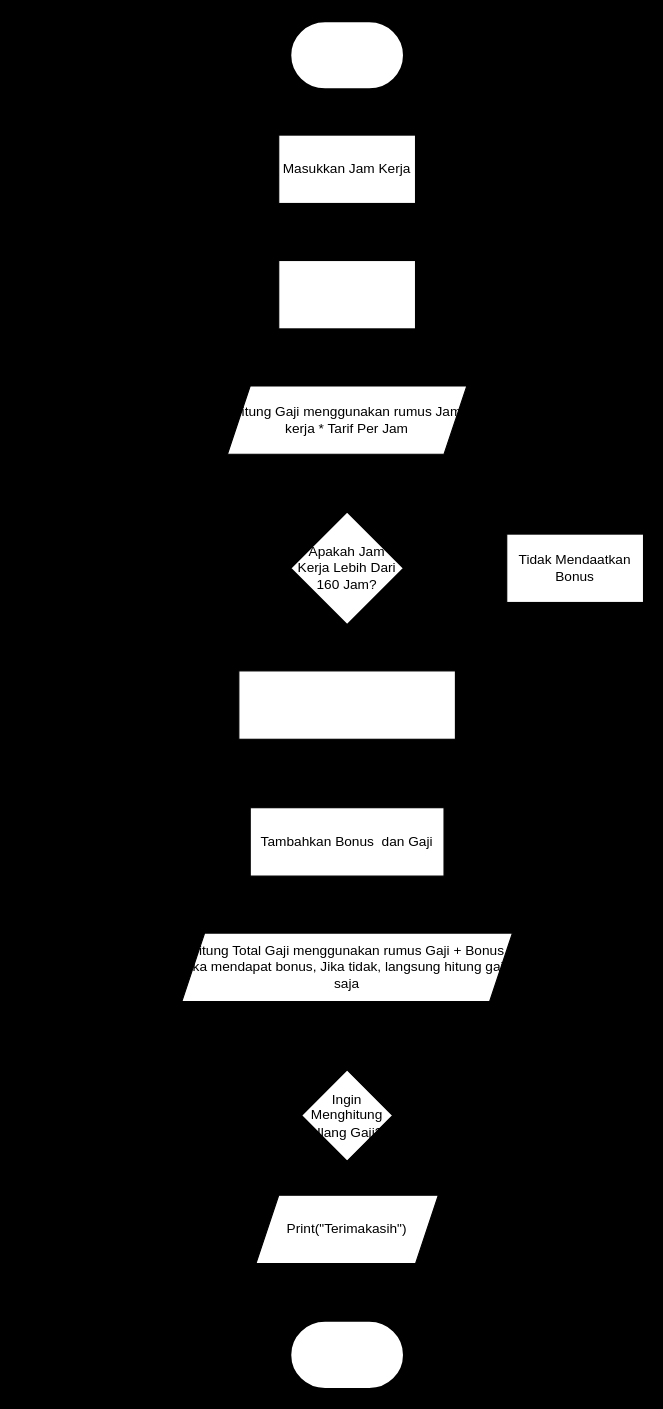
Image size: 663x1409. Some labels were removed from this diagram. The shapes that lost their labels are listed below. From the top down, each one's centre as x and y in pixels, then its label:
At point 346,54: "Mulai".
At point 347,294: "Masukkan Tarif Per Jam".
At point 346,704: "Hitung Bonus 10% dari gaji dengan rumus 0.10 * Gaji".
At point 346,1354: "Stop".
